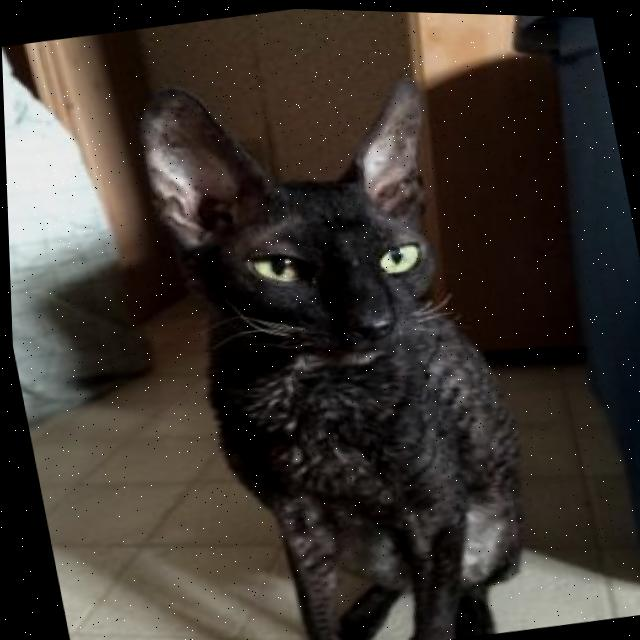Cornish Rex: (115, 30, 571, 640)
